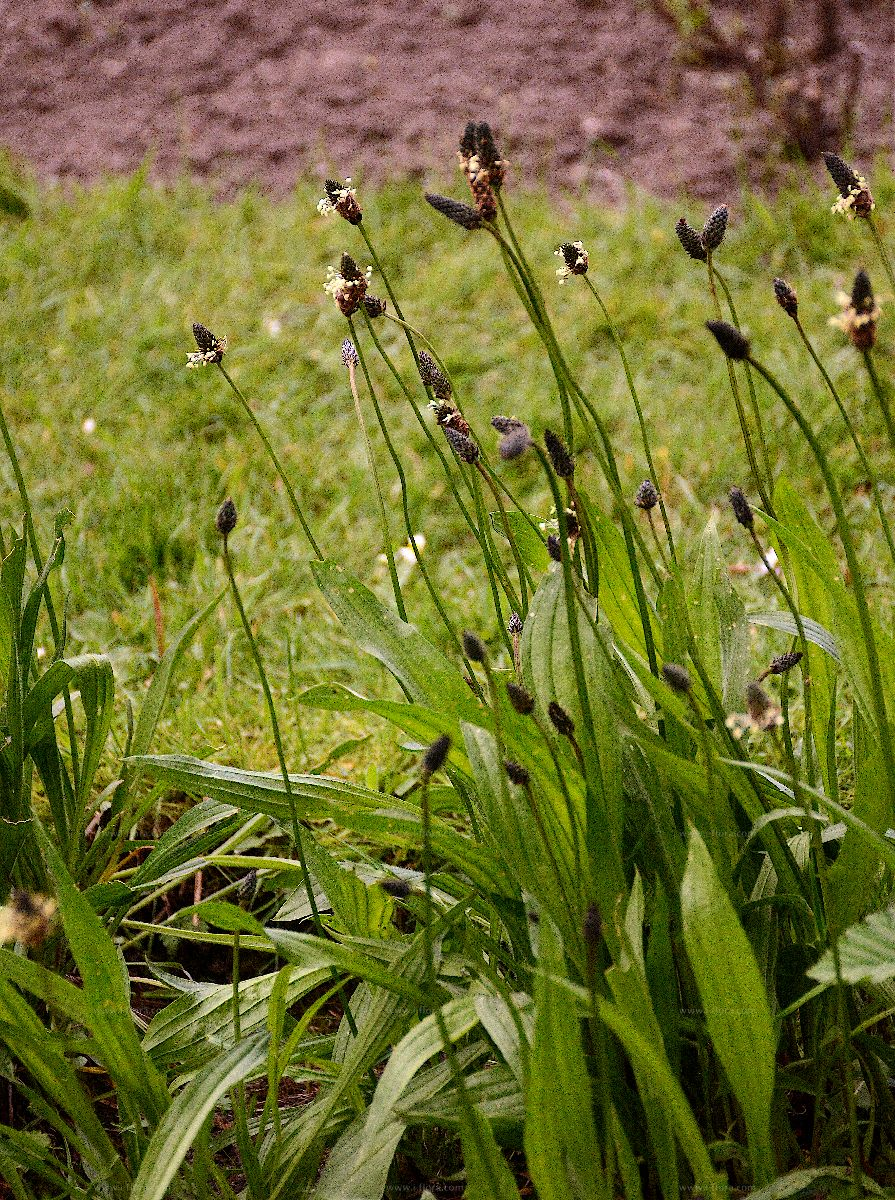buckhorn plantain: (110, 93, 891, 1142)
